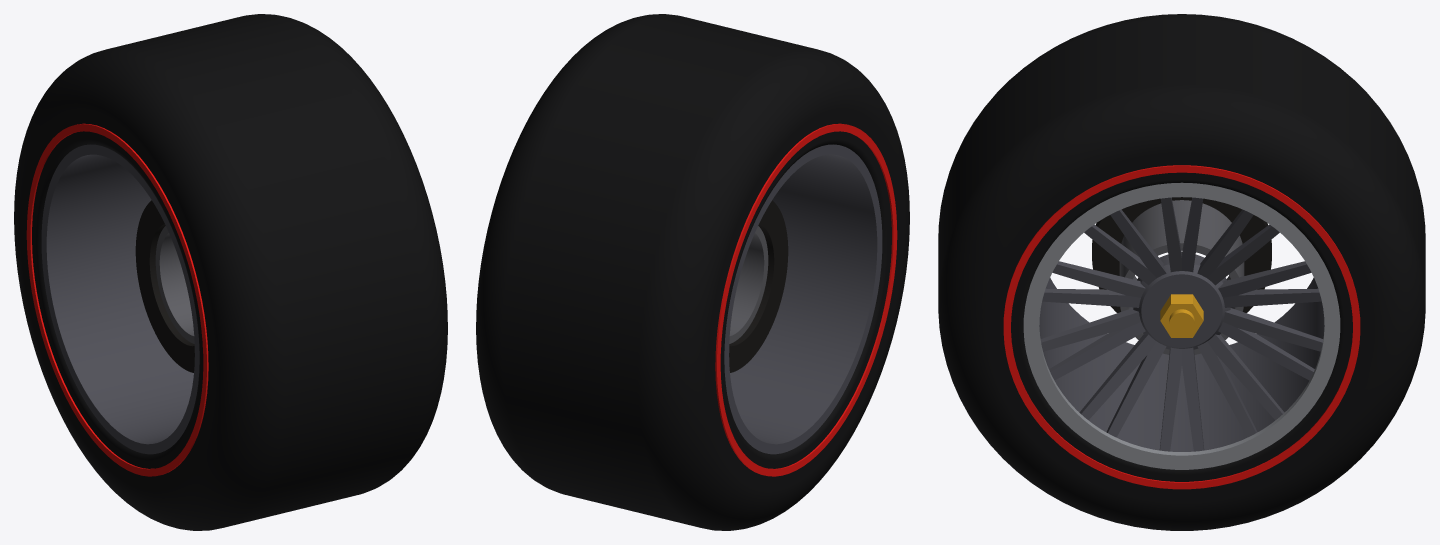
Rendered from wheel_rear.glb.
3 renders of one model, left to right at view 1: azimuth 30°, elevation 25°; view 2: azimuth 150°, elevation 25°; view 3: azimuth 270°, elevation 25°, orthographic.
Parts seen in each view (by area): view 1: wheel_rear; view 2: wheel_rear; view 3: wheel_rear.
Boxes of the visible parts, left/top/right/bottom form: wheel_rear: left=14, top=14, right=447, bottom=530; wheel_rear: left=476, top=14, right=909, bottom=530; wheel_rear: left=938, top=14, right=1425, bottom=530.
Bounding box in the file's own units: 0.385 × 0.7197 × 0.7199.
